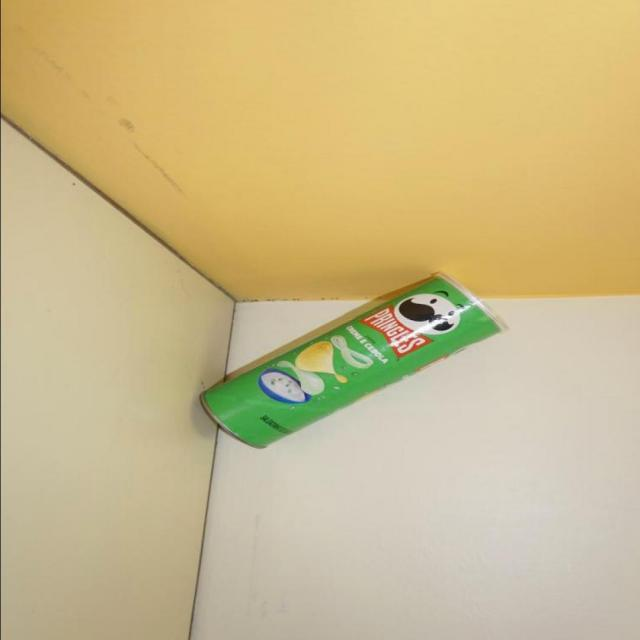Pringles: (198, 274, 508, 450)
